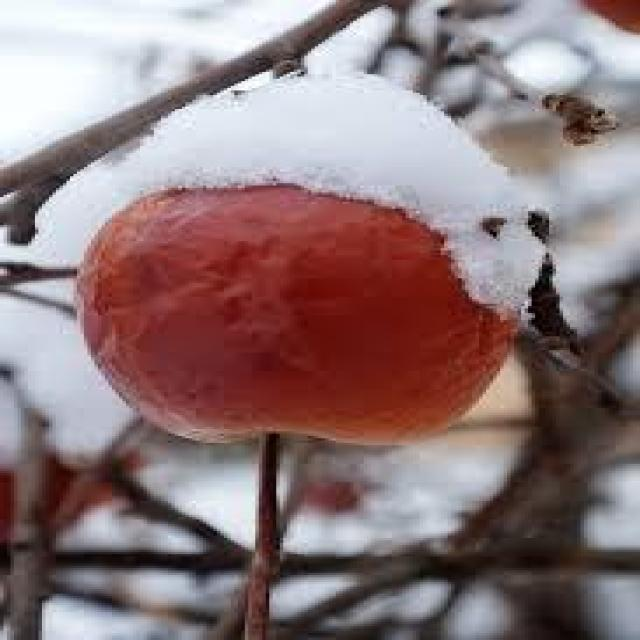maca: (14, 70, 560, 638)
